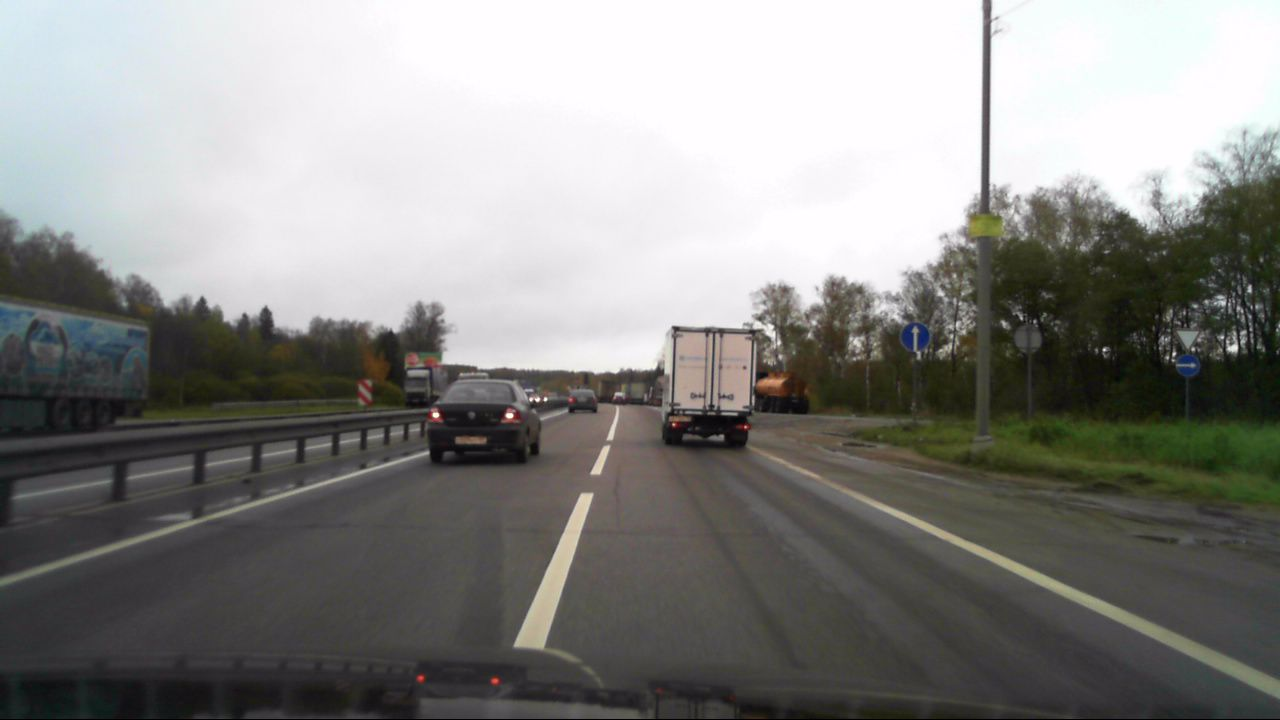Turn Right: (1175, 354, 1200, 377)
